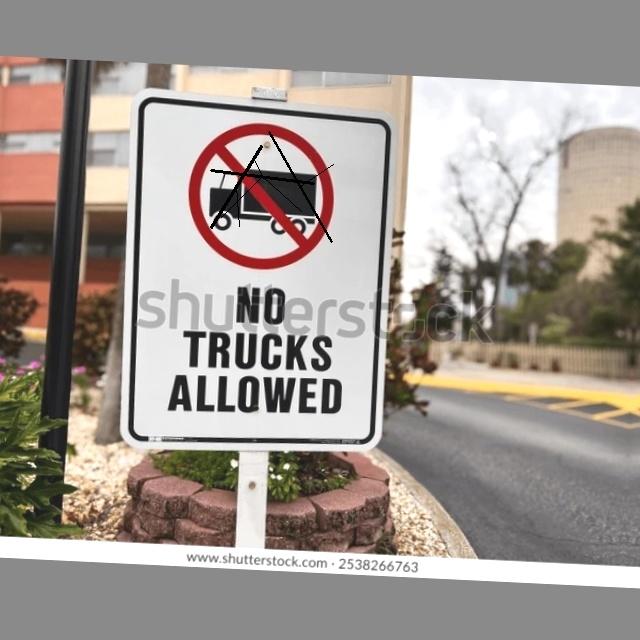Truck_Prohibited: (179, 111, 354, 282)
